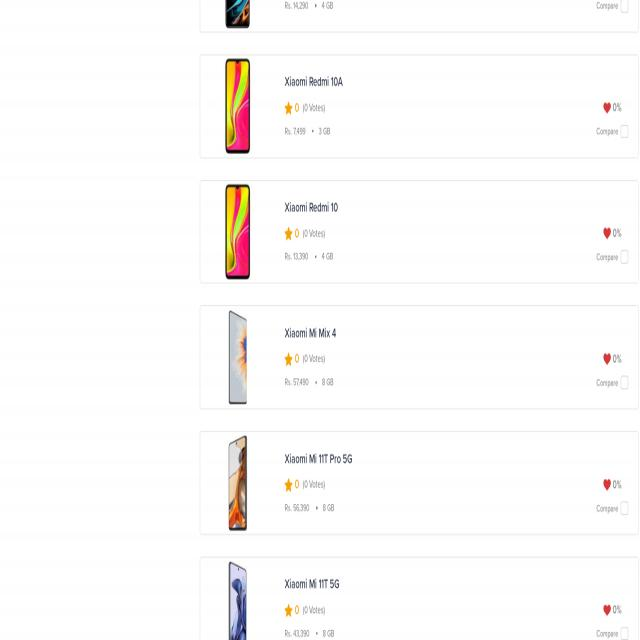button: (201, 430, 638, 535), (200, 180, 638, 284), (199, 306, 638, 409), (199, 57, 638, 159), (200, 558, 640, 640), (199, 0, 639, 32), (285, 101, 293, 115), (603, 101, 611, 115), (285, 352, 293, 366), (603, 352, 611, 366), (285, 227, 293, 240), (603, 227, 611, 240), (285, 478, 293, 491), (603, 478, 611, 491), (285, 604, 293, 617), (603, 604, 611, 617)
field: (620, 250, 629, 265), (620, 375, 628, 391), (620, 627, 629, 640), (621, 501, 628, 516), (621, 124, 628, 138)
